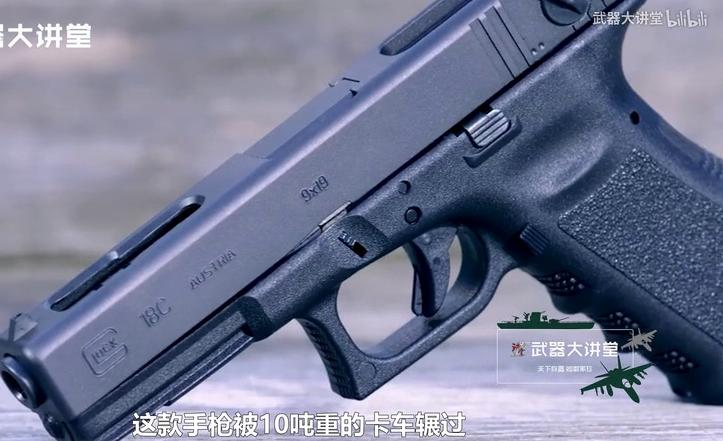gun: (1, 0, 723, 441)
